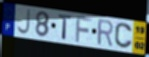8: (34, 11, 51, 39)
C: (114, 22, 134, 50)
F: (75, 15, 93, 44)
J: (16, 8, 31, 36)
R: (97, 19, 115, 49)
T: (58, 14, 73, 41)
